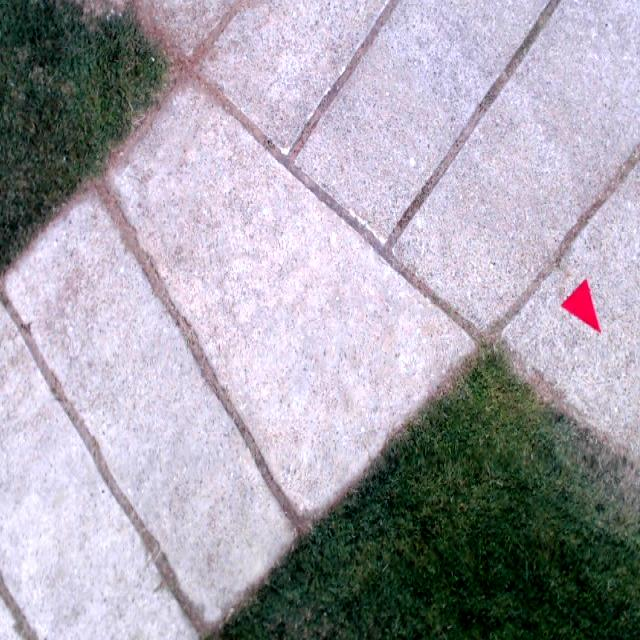red_triangle: (560, 276, 602, 334)
